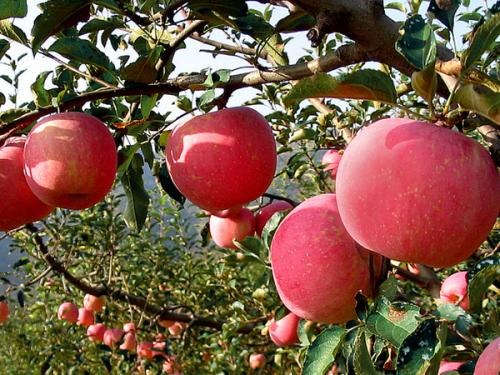apple: (334, 116, 499, 270), (166, 106, 278, 209), (21, 110, 119, 209)
obscured(1)_apple: (268, 193, 393, 325)
